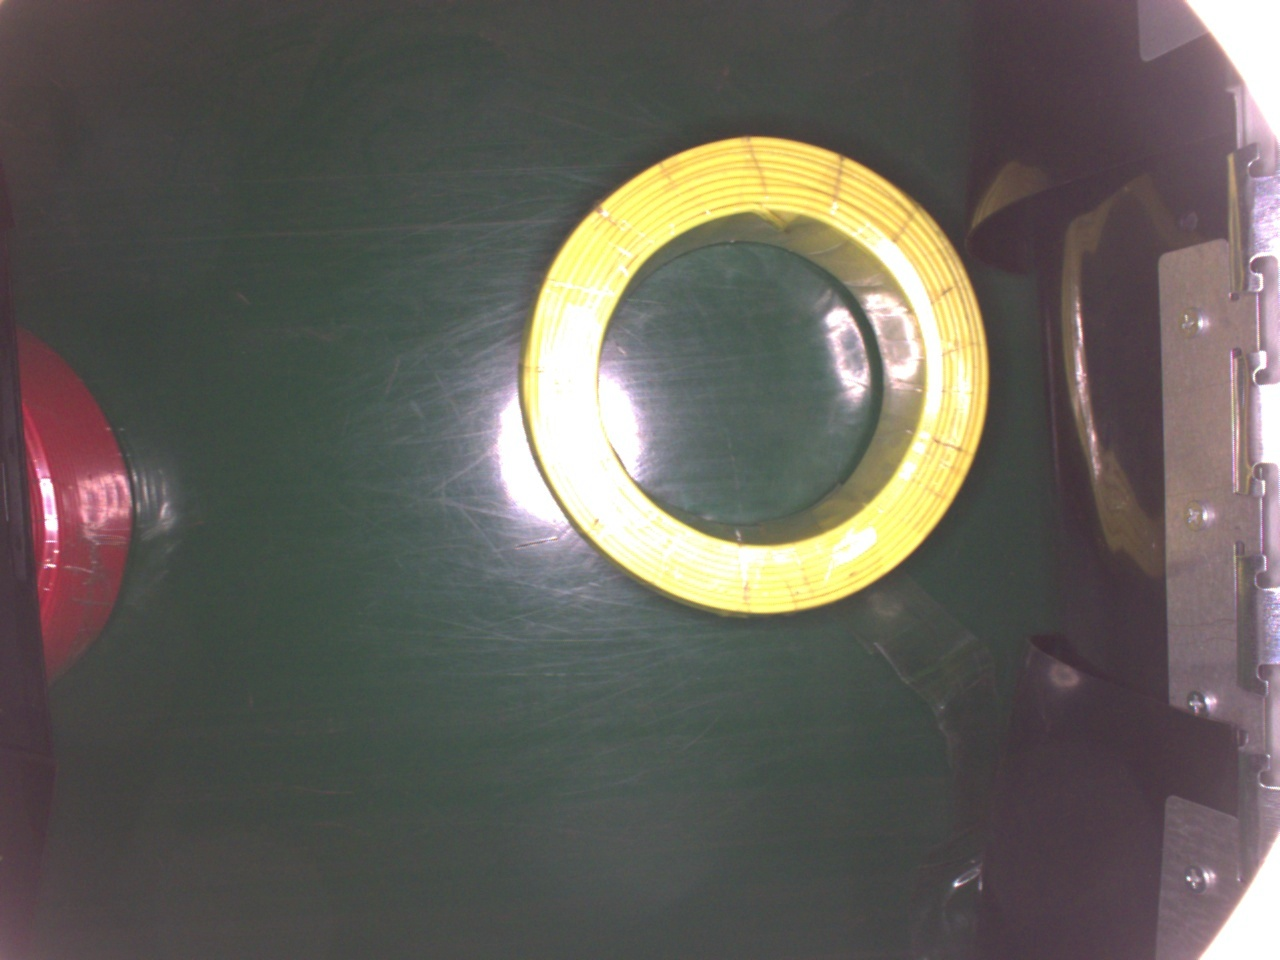yellow: (512, 133, 996, 626)
